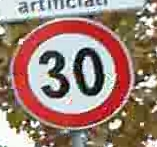limite 30: (6, 16, 134, 129)
